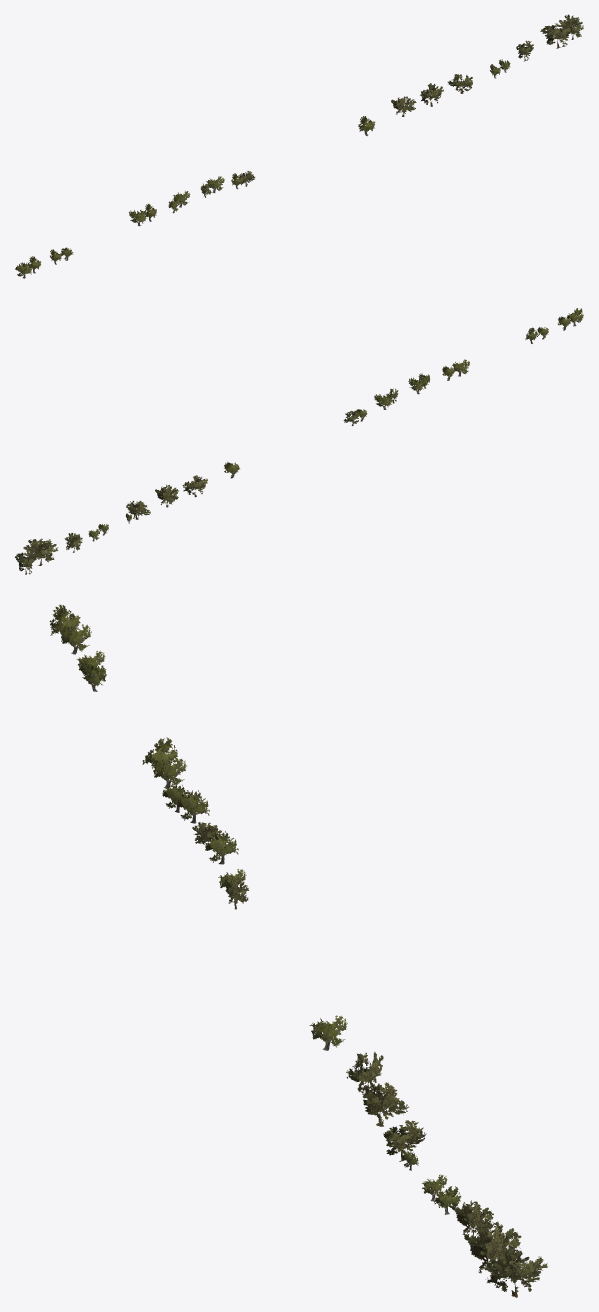
The picture shows the model from 3 angles, top to bottom: view 1: azimuth 30°, elevation 25°; view 2: azimuth 210°, elevation 25°; view 3: azimuth 270°, elevation 25°; orthographic projection. The views are drawn at different scales.
Visible parts, largest first — view 1: jacaranda_tree promenade foliage, island_tree_01 promenade foliage; view 2: jacaranda_tree promenade foliage, island_tree_01 promenade foliage; view 3: jacaranda_tree promenade foliage, island_tree_01 promenade foliage.
Part boxes in pixels (bbox=[...]): jacaranda_tree promenade foliage: bbox=[200, 14, 583, 196]; island_tree_01 promenade foliage: bbox=[15, 59, 510, 276]; jacaranda_tree promenade foliage: bbox=[15, 388, 398, 574]; island_tree_01 promenade foliage: bbox=[88, 308, 583, 539]; jacaranda_tree promenade foliage: bbox=[192, 822, 547, 1292]; island_tree_01 promenade foliage: bbox=[49, 604, 461, 1208].
Size of the model in its own units: 306 by 11.47 by 97.7.
Materials: 4 (4 with a texture image).
